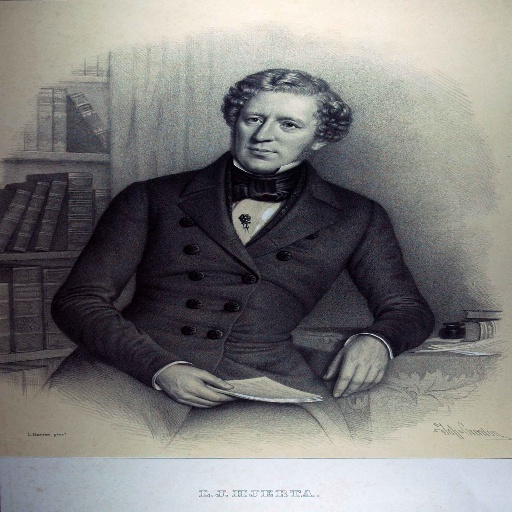hand: (330, 327, 403, 398), (153, 362, 239, 409)
